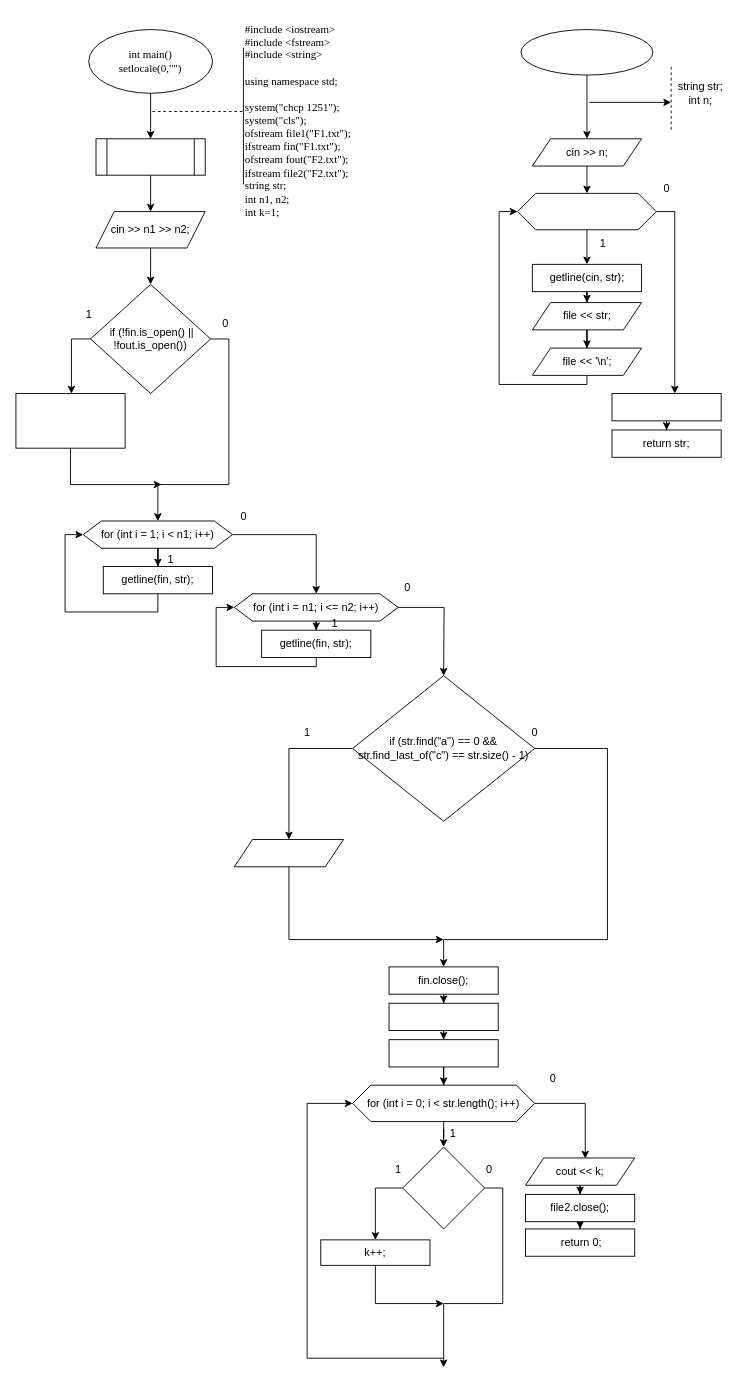
Some shapes in this 748 by 1390 pixel diagram are drawn without their labels. Here are the shapes that lost their labels. From the top down, the centre of each, then its label:
pixel 586 52: string writefl(ofstream& file)
pixel 150 156: writefl(fiel1);
pixel 586 211: for (int i = 0; i < n + 1; i++)
pixel 70 420: cout << "Ошибка открытия файлов!" << endl;
pixel 666 407: file.close();
pixel 288 853: fout << str << endl;
pixel 443 1016: fout.close();
pixel 443 1053: getline(file2, str);
pixel 443 1187: if (str[i] == ' ')
